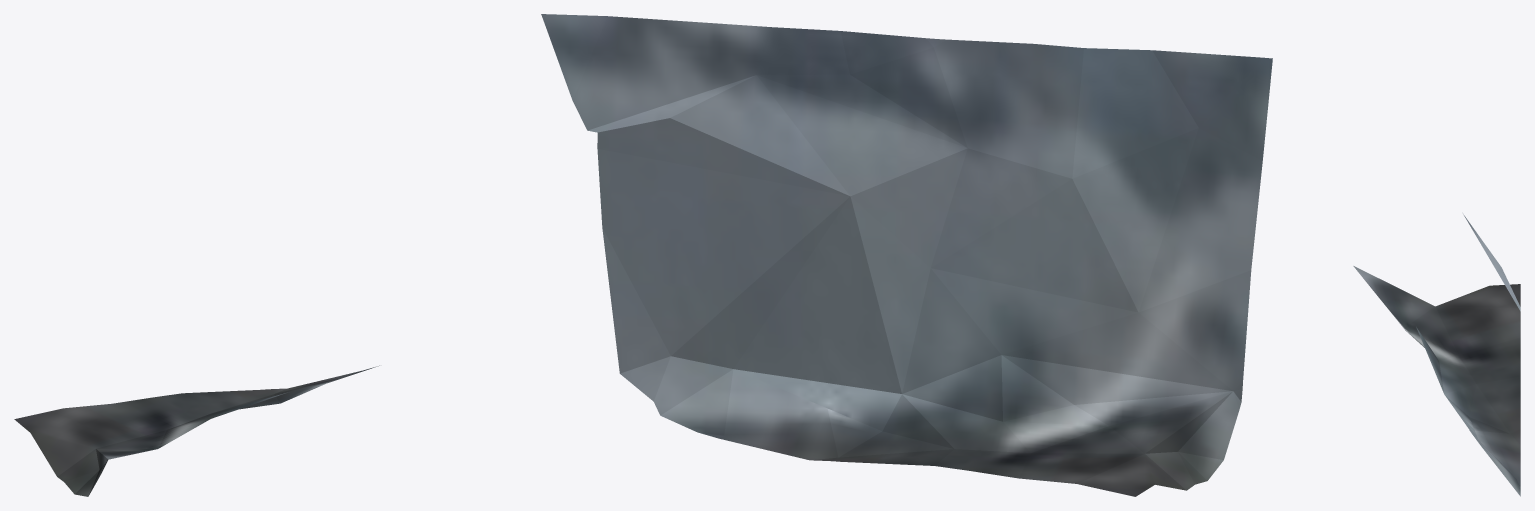
The picture shows the model from 3 angles, left to right: view 1: azimuth 30°, elevation 25°; view 2: azimuth 150°, elevation 25°; view 3: azimuth 270°, elevation 25°; orthographic projection. The views are drawn at different scales.
Bounding box in the file's own units: 0.7419 × 0.4547 × 0.297.
1 material, 1 textured.
